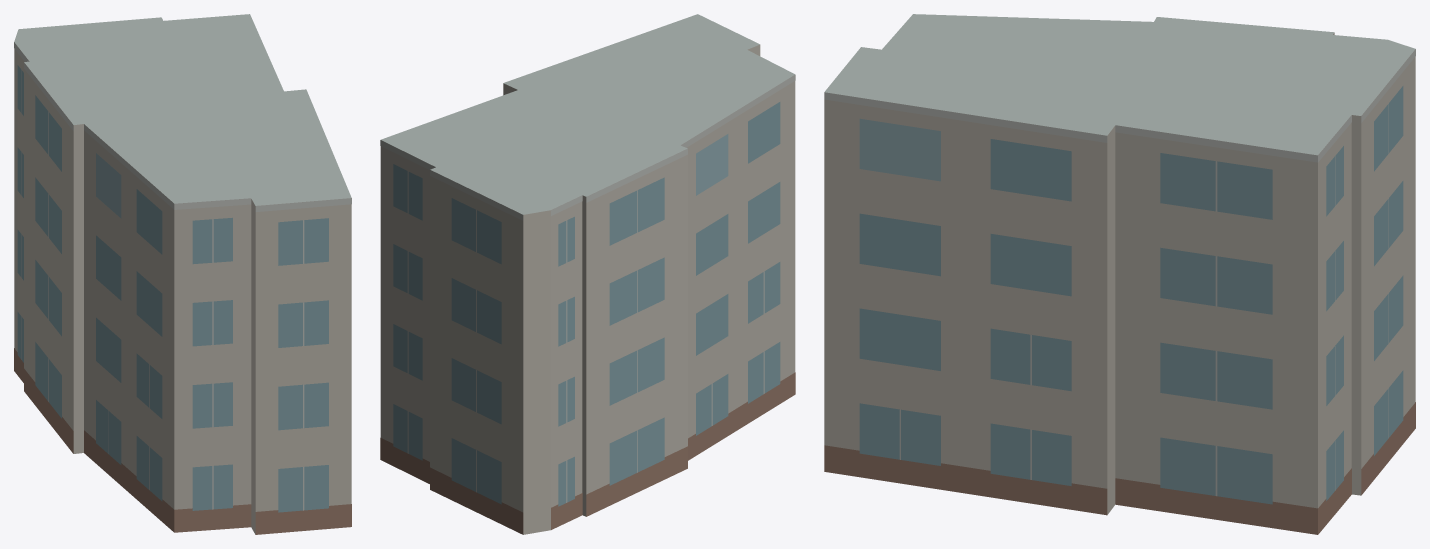
Rendered from survey-upis-32516247.glb.
3 renders of one model, left to right at view 1: azimuth 30°, elevation 25°; view 2: azimuth 150°, elevation 25°; view 3: azimuth 270°, elevation 25°, orthographic. The views are drawn at different scales.
Parts seen in each view (by area): view 1: survey-upis-32516247.tmp; view 2: survey-upis-32516247.tmp; view 3: survey-upis-32516247.tmp.
Boxes of the visible parts, x1,y1,x2,y2 form: survey-upis-32516247.tmp: (14, 14, 351, 534); survey-upis-32516247.tmp: (380, 14, 795, 534); survey-upis-32516247.tmp: (824, 14, 1415, 534).
Size of the model in its own units: 10.24 by 12.8 by 18.09.
